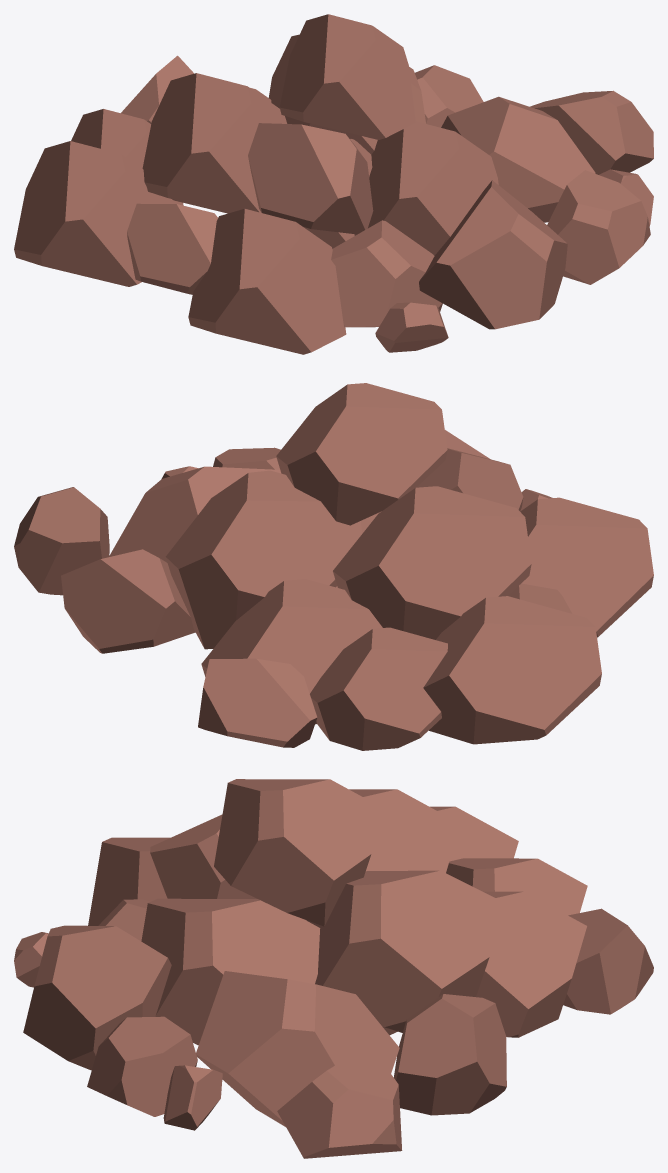
The model's file is clay collected.fbx.
The picture shows the model from 3 angles, top to bottom: view 1: azimuth 30°, elevation 25°; view 2: azimuth 150°, elevation 25°; view 3: azimuth 270°, elevation 25°; orthographic projection. The views are drawn at different scales.
Parts seen in each view (by area): view 1: Coal_Collected2; view 2: Coal_Collected2; view 3: Coal_Collected2.
Boxes of the visible parts, x1,y1,x2,y2 form: Coal_Collected2: [14, 14, 653, 354]; Coal_Collected2: [14, 383, 653, 750]; Coal_Collected2: [14, 779, 653, 1158].
Size of the model in its own units: 1.17 by 0.428 by 1.05.
